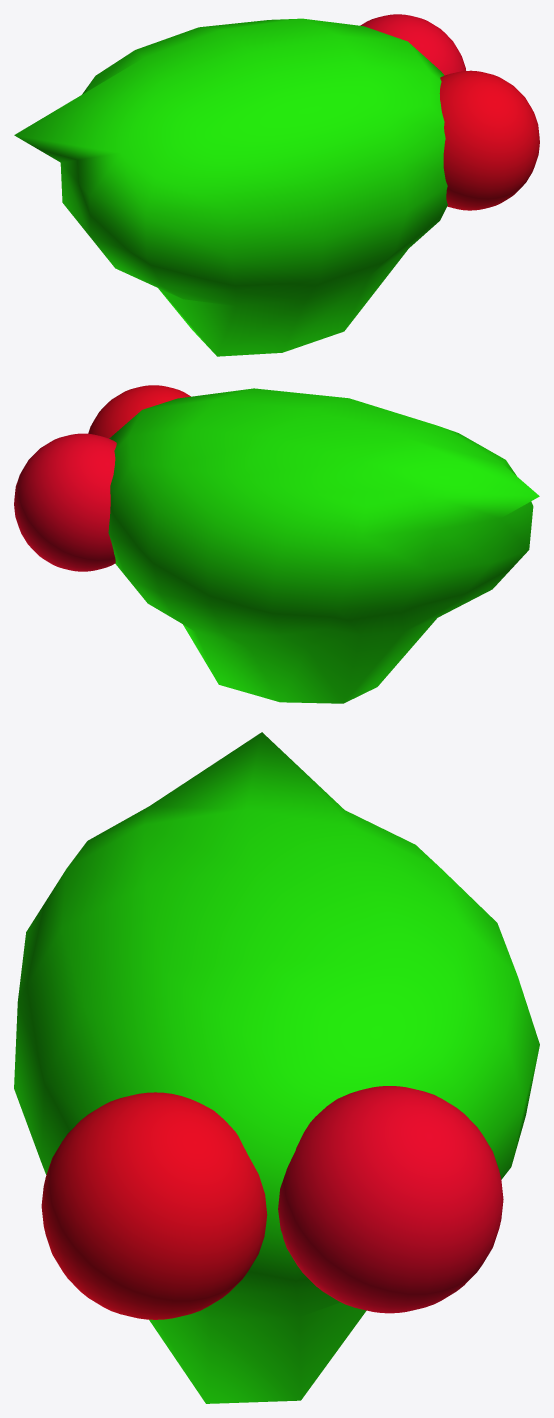
3 views of the same model, one above another, from view 1: azimuth 30°, elevation 25°; view 2: azimuth 150°, elevation 25°; view 3: azimuth 270°, elevation 25° (orthographic). The views are drawn at different scales.
Visible parts, largest first — view 1: Sphere.001; view 2: Sphere.001; view 3: Sphere.001.
Boxes of the visible parts, bbox=[...] form: Sphere.001: bbox=[14, 14, 539, 356]; Sphere.001: bbox=[14, 385, 539, 703]; Sphere.001: bbox=[14, 732, 539, 1403].
Size of the model in its own units: 7.99 by 4.62 by 4.62.
